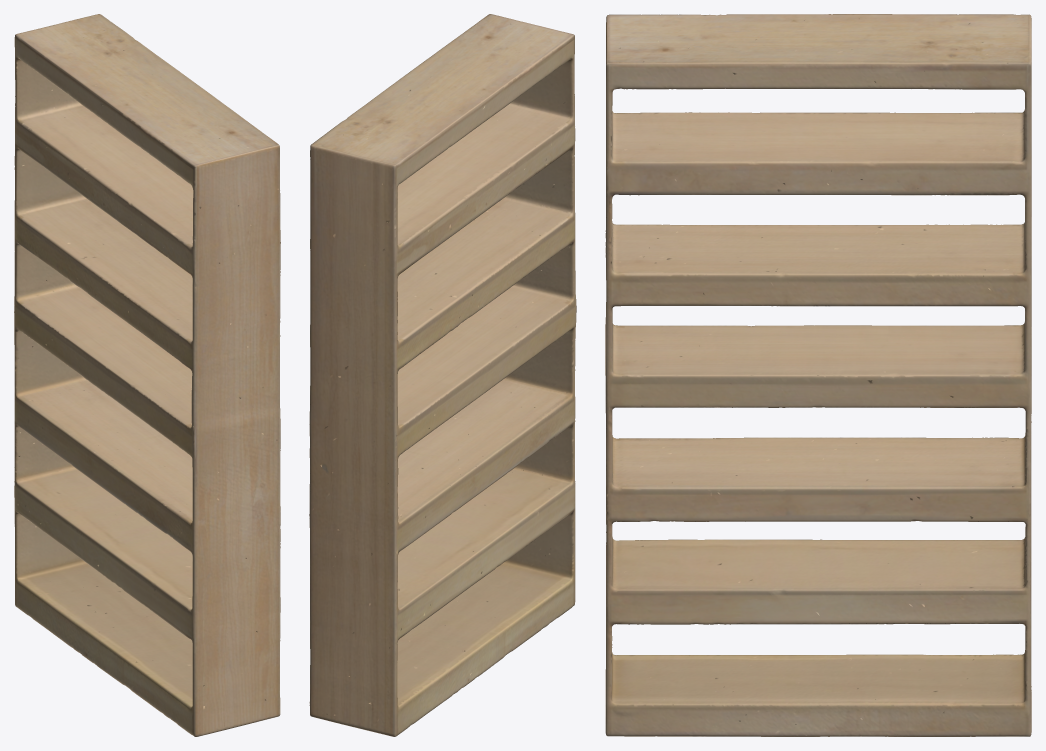
The model's file is Tall_Wooden_Bookshelf.glb.
The picture shows the model from 3 angles, left to right: view 1: azimuth 30°, elevation 25°; view 2: azimuth 150°, elevation 25°; view 3: azimuth 270°, elevation 25°; orthographic projection. The views are drawn at different scales.
Bounding box in the file's own units: 0.3237 × 2 × 1.15.
1 material, 1 textured.
